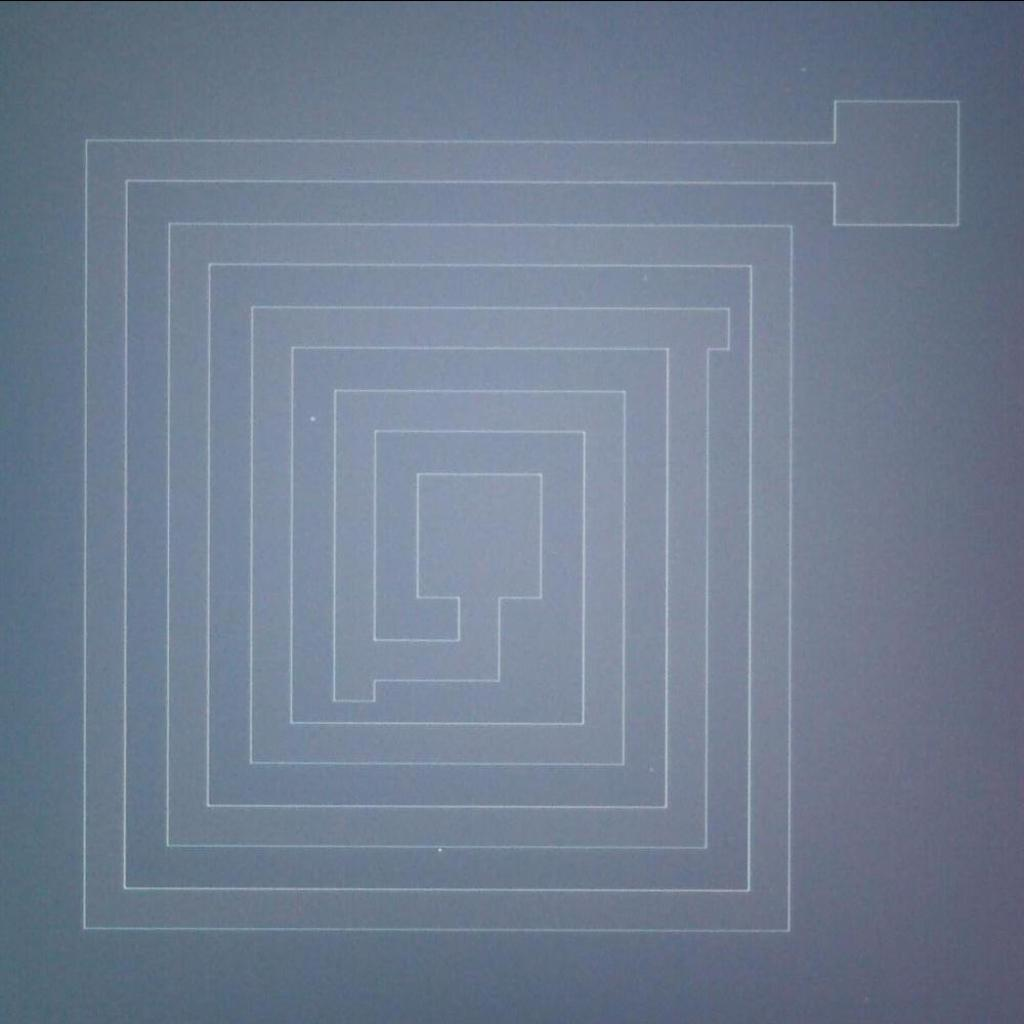budge circuit: (692, 301, 740, 362), (319, 669, 391, 707)
dot: (297, 403, 331, 430)
